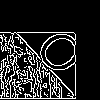O: (25, 25, 89, 85)
